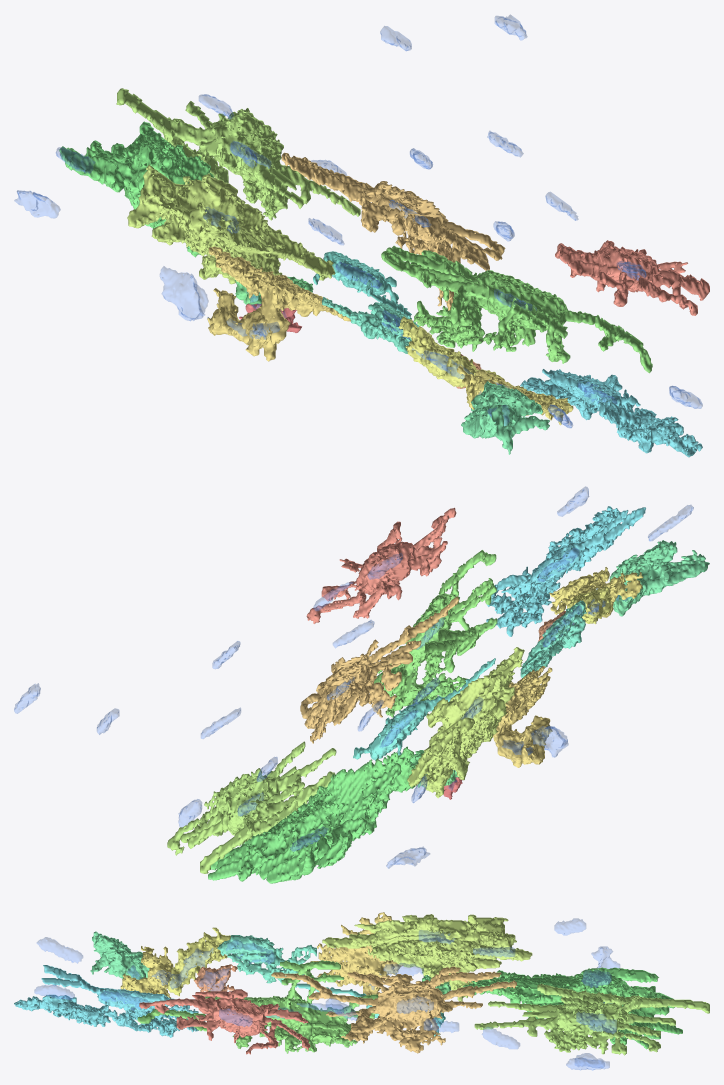
The picture shows the model from 3 angles, top to bottom: view 1: azimuth 30°, elevation 25°; view 2: azimuth 150°, elevation 25°; view 3: azimuth 270°, elevation 25°; orthographic projection. The views are drawn at different scales.
Visible parts, largest first — view 1: osteocyte_73, osteocyte_96, osteocyte_52, osteocyte_78, osteocyte_35, osteocyte_70, osteocyte_33, osteocyte_97, osteocyte_64, osteocyte_66, osteocyte_39, osteocyte_81 (+3 smaller); view 2: osteocyte_33, osteocyte_52, osteocyte_96, osteocyte_73, osteocyte_78, osteocyte_70, osteocyte_97, osteocyte_35, osteocyte_64, osteocyte_39, osteocyte_81, osteocyte_120 (+2 smaller); view 3: osteocyte_96, osteocyte_78, osteocyte_52, osteocyte_33, osteocyte_73, osteocyte_70, osteocyte_97, osteocyte_35, osteocyte_81, osteocyte_66, osteocyte_64, osteocyte_120 (+24 smaller).
Boxes of the visible parts, left/top/right/bottom form: osteocyte_73: left=381, top=245, right=652, bottom=373; osteocyte_96: left=127, top=165, right=335, bottom=284; osteocyte_52: left=116, top=88, right=360, bottom=220; osteocyte_78: left=281, top=152, right=505, bottom=310; osteocyte_35: left=207, top=246, right=350, bottom=361; osteocyte_70: left=520, top=369, right=702, bottom=457; osteocyte_33: left=59, top=121, right=213, bottom=257; osteocyte_97: left=555, top=240, right=709, bottom=315; osteocyte_64: left=461, top=381, right=549, bottom=454; osteocyte_66: left=398, top=316, right=502, bottom=388; osteocyte_39: left=313, top=251, right=411, bottom=318; osteocyte_81: left=322, top=297, right=419, bottom=353; osteocyte_33: left=208, top=746, right=415, bottom=883; osteocyte_52: left=167, top=741, right=336, bottom=873; osteocyte_96: left=407, top=647, right=524, bottom=798; osteocyte_73: left=374, top=550, right=497, bottom=717; osteocyte_78: left=300, top=596, right=458, bottom=743; osteocyte_70: left=486, top=506, right=645, bottom=636; osteocyte_97: left=306, top=507, right=456, bottom=623; osteocyte_35: left=493, top=666, right=552, bottom=767; osteocyte_64: left=609, top=540, right=709, bottom=616; osteocyte_39: left=353, top=658, right=495, bottom=760; osteocyte_81: left=520, top=600, right=586, bottom=677; osteocyte_120: left=549, top=567, right=643, bottom=618; osteocyte_96: left=322, top=914, right=532, bottom=1001; osteocyte_78: left=271, top=966, right=516, bottom=1053; osteocyte_52: left=474, top=983, right=709, bottom=1055; osteocyte_33: left=463, top=967, right=682, bottom=1049; osteocyte_73: left=137, top=960, right=378, bottom=1053; osteocyte_70: left=14, top=965, right=205, bottom=1037; osteocyte_97: left=139, top=989, right=310, bottom=1054; osteocyte_35: left=310, top=912, right=402, bottom=995; osteocyte_81: left=217, top=935, right=316, bottom=983; osteocyte_66: left=168, top=927, right=230, bottom=996; osteocyte_64: left=90, top=931, right=149, bottom=979; osteocyte_120: left=120, top=946, right=173, bottom=998.
Bounding box in the file's own units: 107 × 25.52 × 198.
